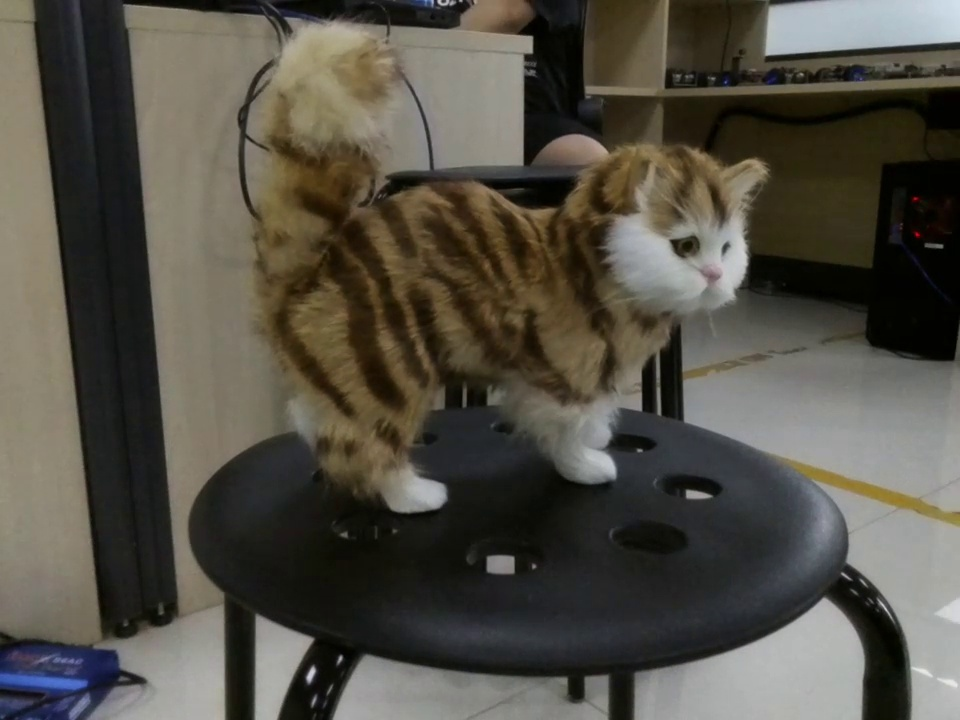cat: (247, 26, 764, 521)
